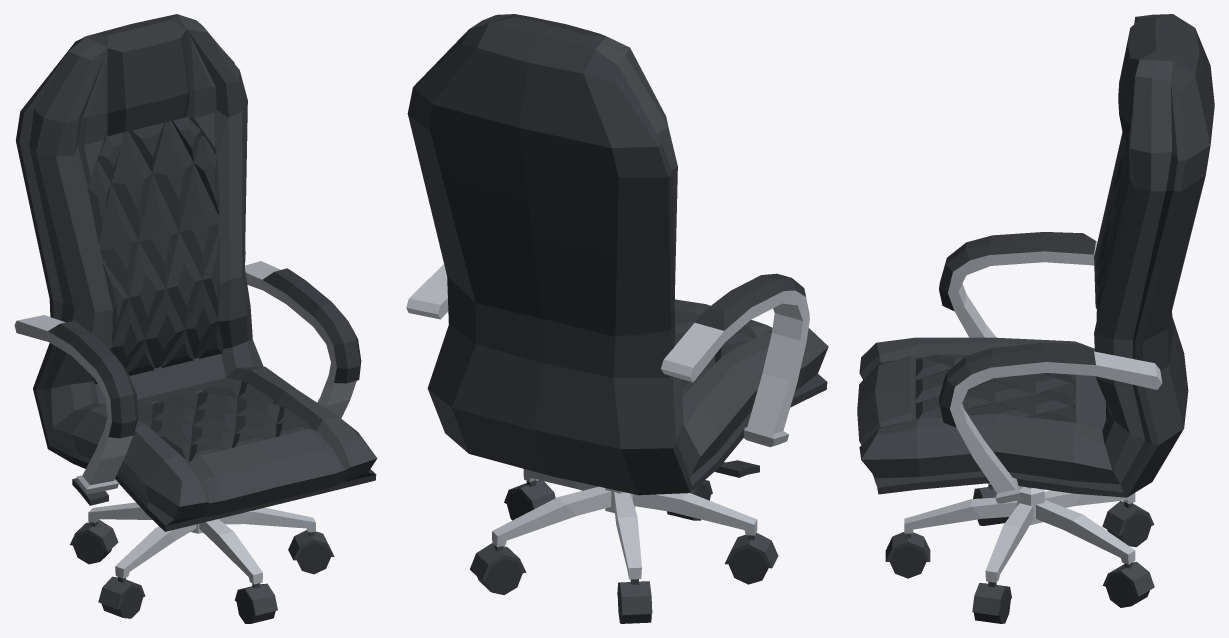
The model's file is SM_Prop_Manager_Chair_01.obj.
3 renders of one model, left to right at view 1: azimuth 30°, elevation 25°; view 2: azimuth 150°, elevation 25°; view 3: azimuth 270°, elevation 25°, orthographic. The views are drawn at different scales.
Parts seen in each view (by area): view 1: SM_Prop_Manager_Chair_01_0; view 2: SM_Prop_Manager_Chair_01_0; view 3: SM_Prop_Manager_Chair_01_0.
Boxes of the visible parts, x1,y1,x2,y2 form: SM_Prop_Manager_Chair_01_0: (14, 14, 377, 623); SM_Prop_Manager_Chair_01_0: (406, 14, 828, 623); SM_Prop_Manager_Chair_01_0: (857, 14, 1214, 623).
Size of the model in its own units: 0.6935 by 1.31 by 0.7893.
Materials: 1 (1 with a texture image).
